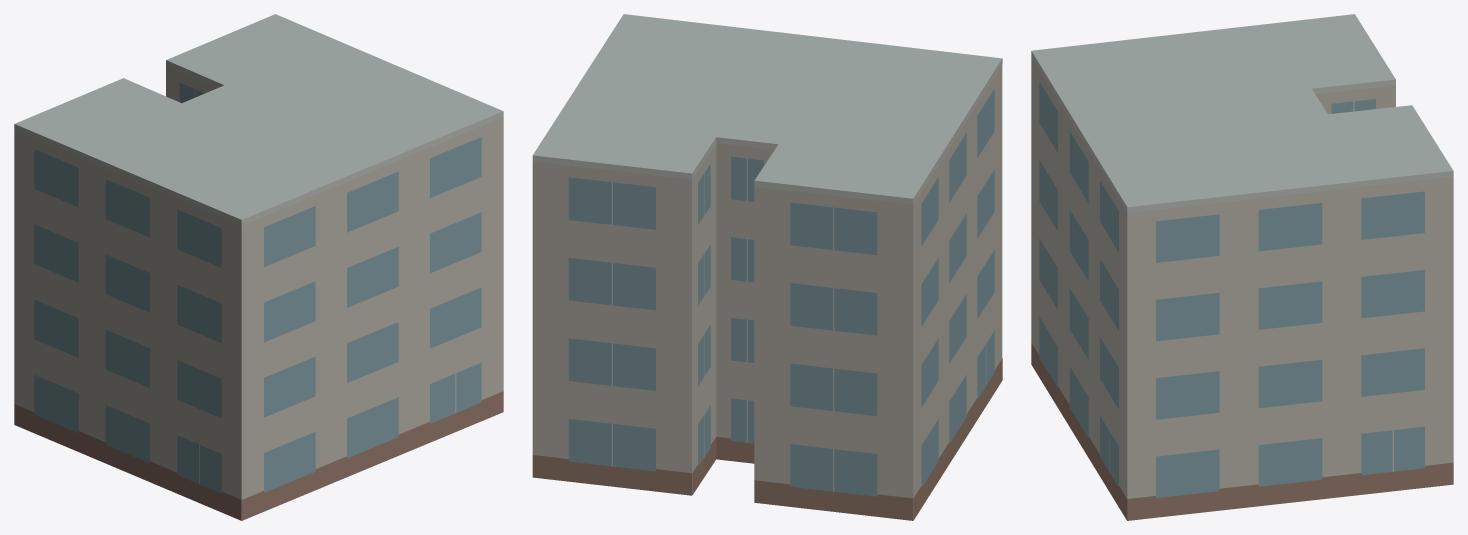
Rendered from survey-upis-32957677.glb.
The picture shows the model from 3 angles, left to right: view 1: azimuth 30°, elevation 25°; view 2: azimuth 150°, elevation 25°; view 3: azimuth 270°, elevation 25°; orthographic projection. The views are drawn at different scales.
Visible parts, largest first — view 1: survey-upis-32957677.tmp; view 2: survey-upis-32957677.tmp; view 3: survey-upis-32957677.tmp.
Part boxes in pixels (x1,y1,x2,y2): survey-upis-32957677.tmp: (14, 14, 503, 520); survey-upis-32957677.tmp: (532, 14, 1002, 520); survey-upis-32957677.tmp: (1031, 14, 1453, 520).
Bounding box in the file's own units: 17.18 × 13 × 15.87.
